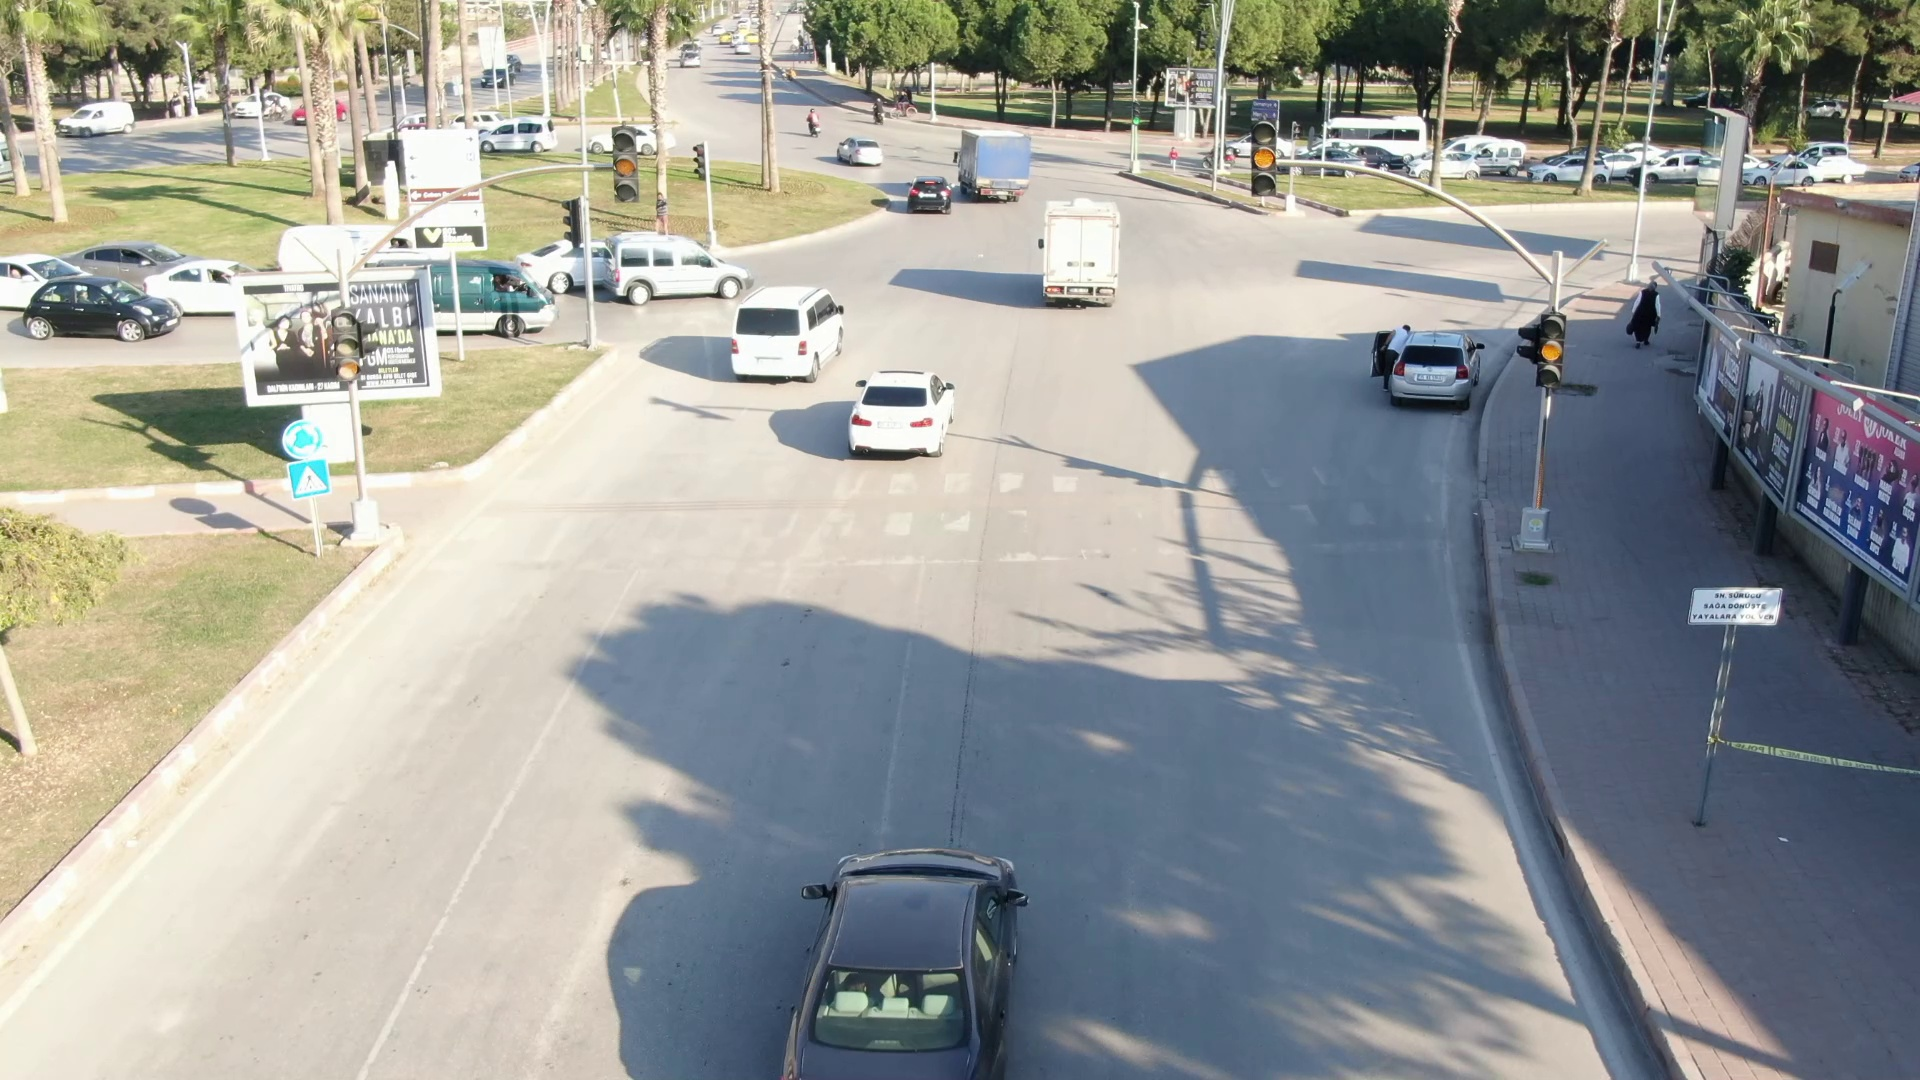car: (728, 806, 1065, 1080), (1025, 192, 1139, 315), (726, 279, 852, 388), (600, 225, 755, 309), (836, 363, 966, 460), (945, 119, 1041, 203), (1390, 332, 1488, 407), (897, 166, 959, 216)
person: (1623, 274, 1670, 358)
